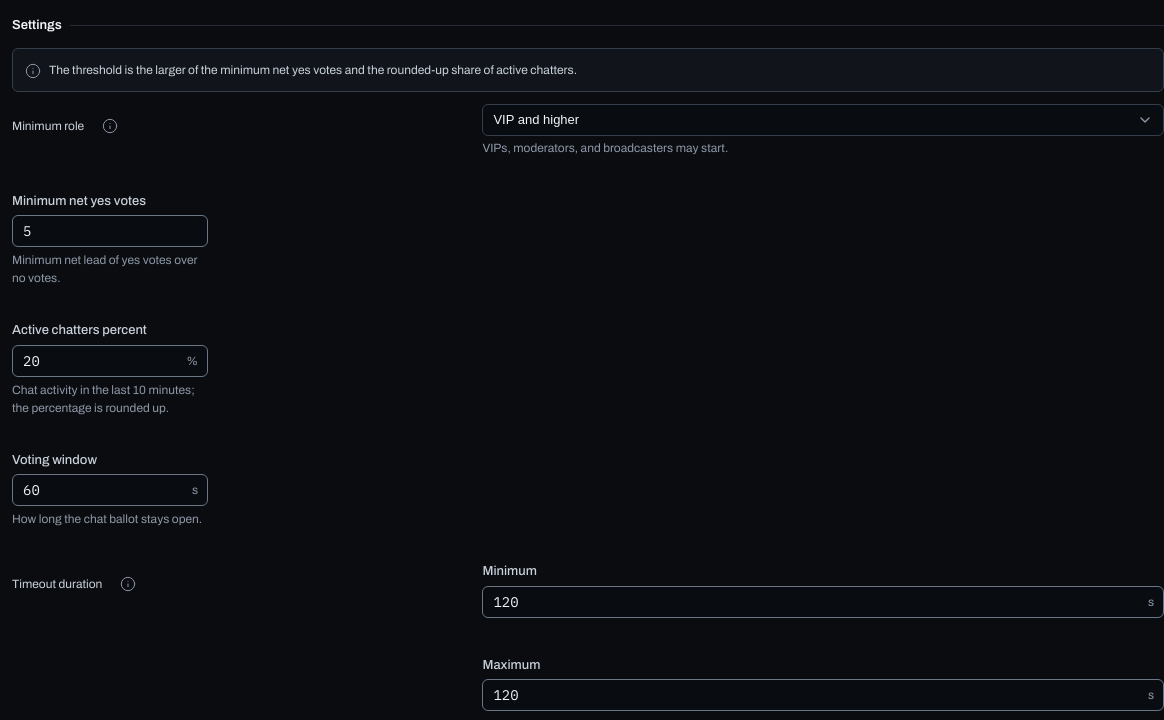
Scenario: votekick starter role setting › shows and saves the localized role select in en
The width and height of the screenshot is (1164, 720).
Click the dropdown named "Minimum role": {"x": 536, "y": 120} 482,104 -> 1163,136
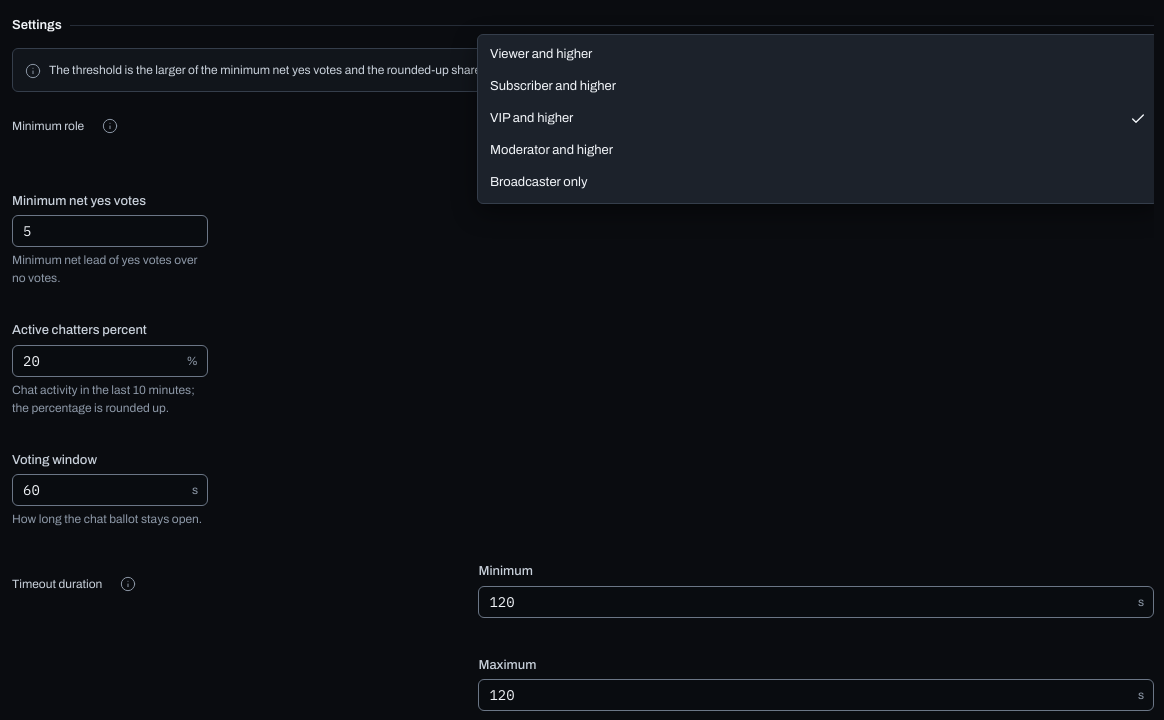
Click the option "Viewer and higher": {"x": 541, "y": 54} 490,47 -> 592,61
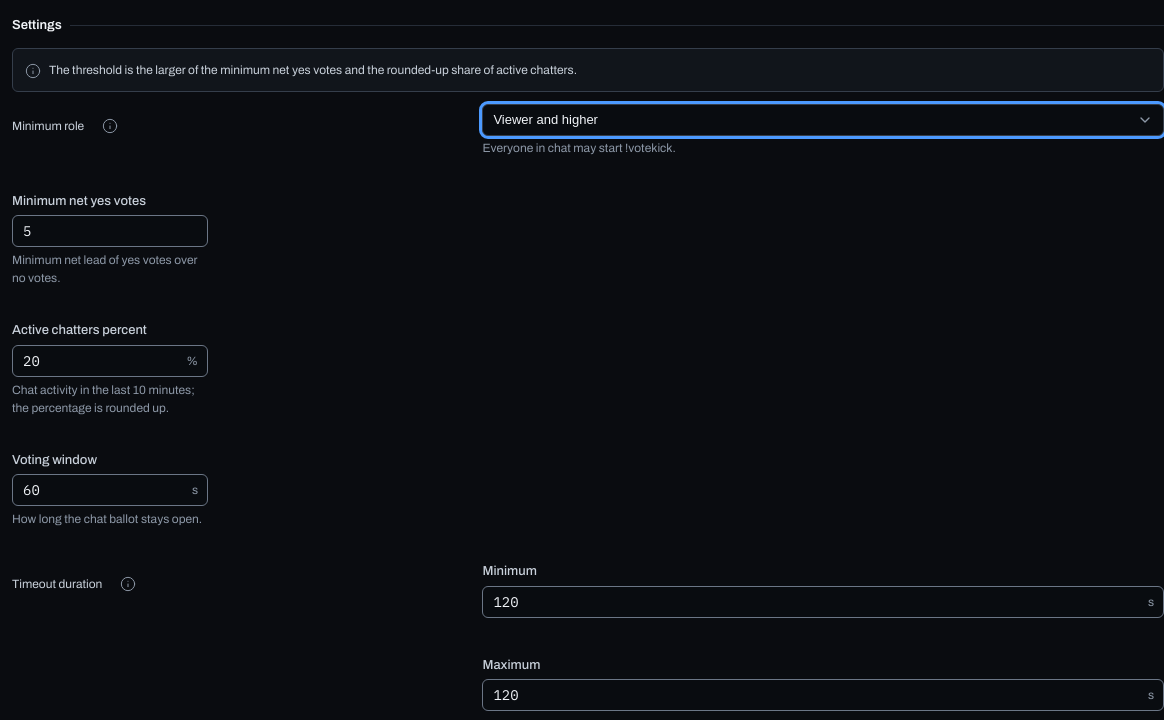
Expected: the dropdown named "Minimum role" shows "Viewer and higher", 482,104 -> 1163,136
